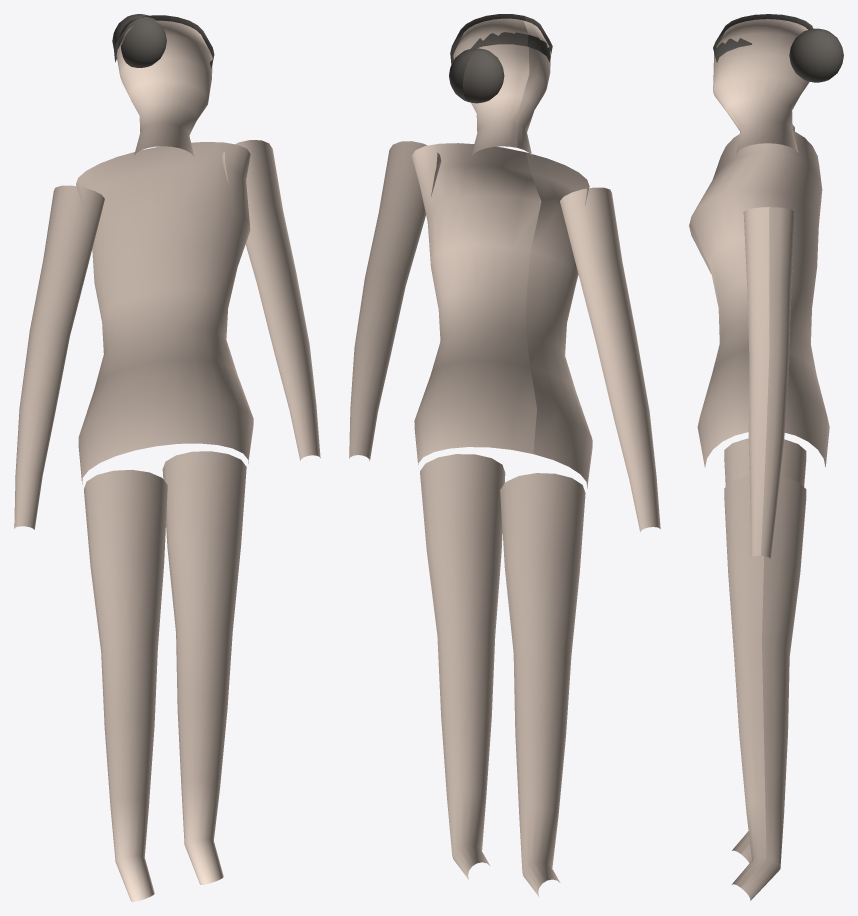
File: avatar_base.glb
3 views of the same model, side by side, from view 1: azimuth 30°, elevation 25°; view 2: azimuth 150°, elevation 25°; view 3: azimuth 270°, elevation 25° (orthographic).
Visible parts, largest first — view 1: Avatar_Base_Node; view 2: Avatar_Base_Node; view 3: Avatar_Base_Node.
Boxes of the visible parts, x1,y1,x2,y2 form: Avatar_Base_Node: (14, 14, 320, 901); Avatar_Base_Node: (349, 14, 660, 896); Avatar_Base_Node: (689, 14, 843, 900).
Bounding box in the file's own units: 0.6157 × 1.67 × 0.272.
